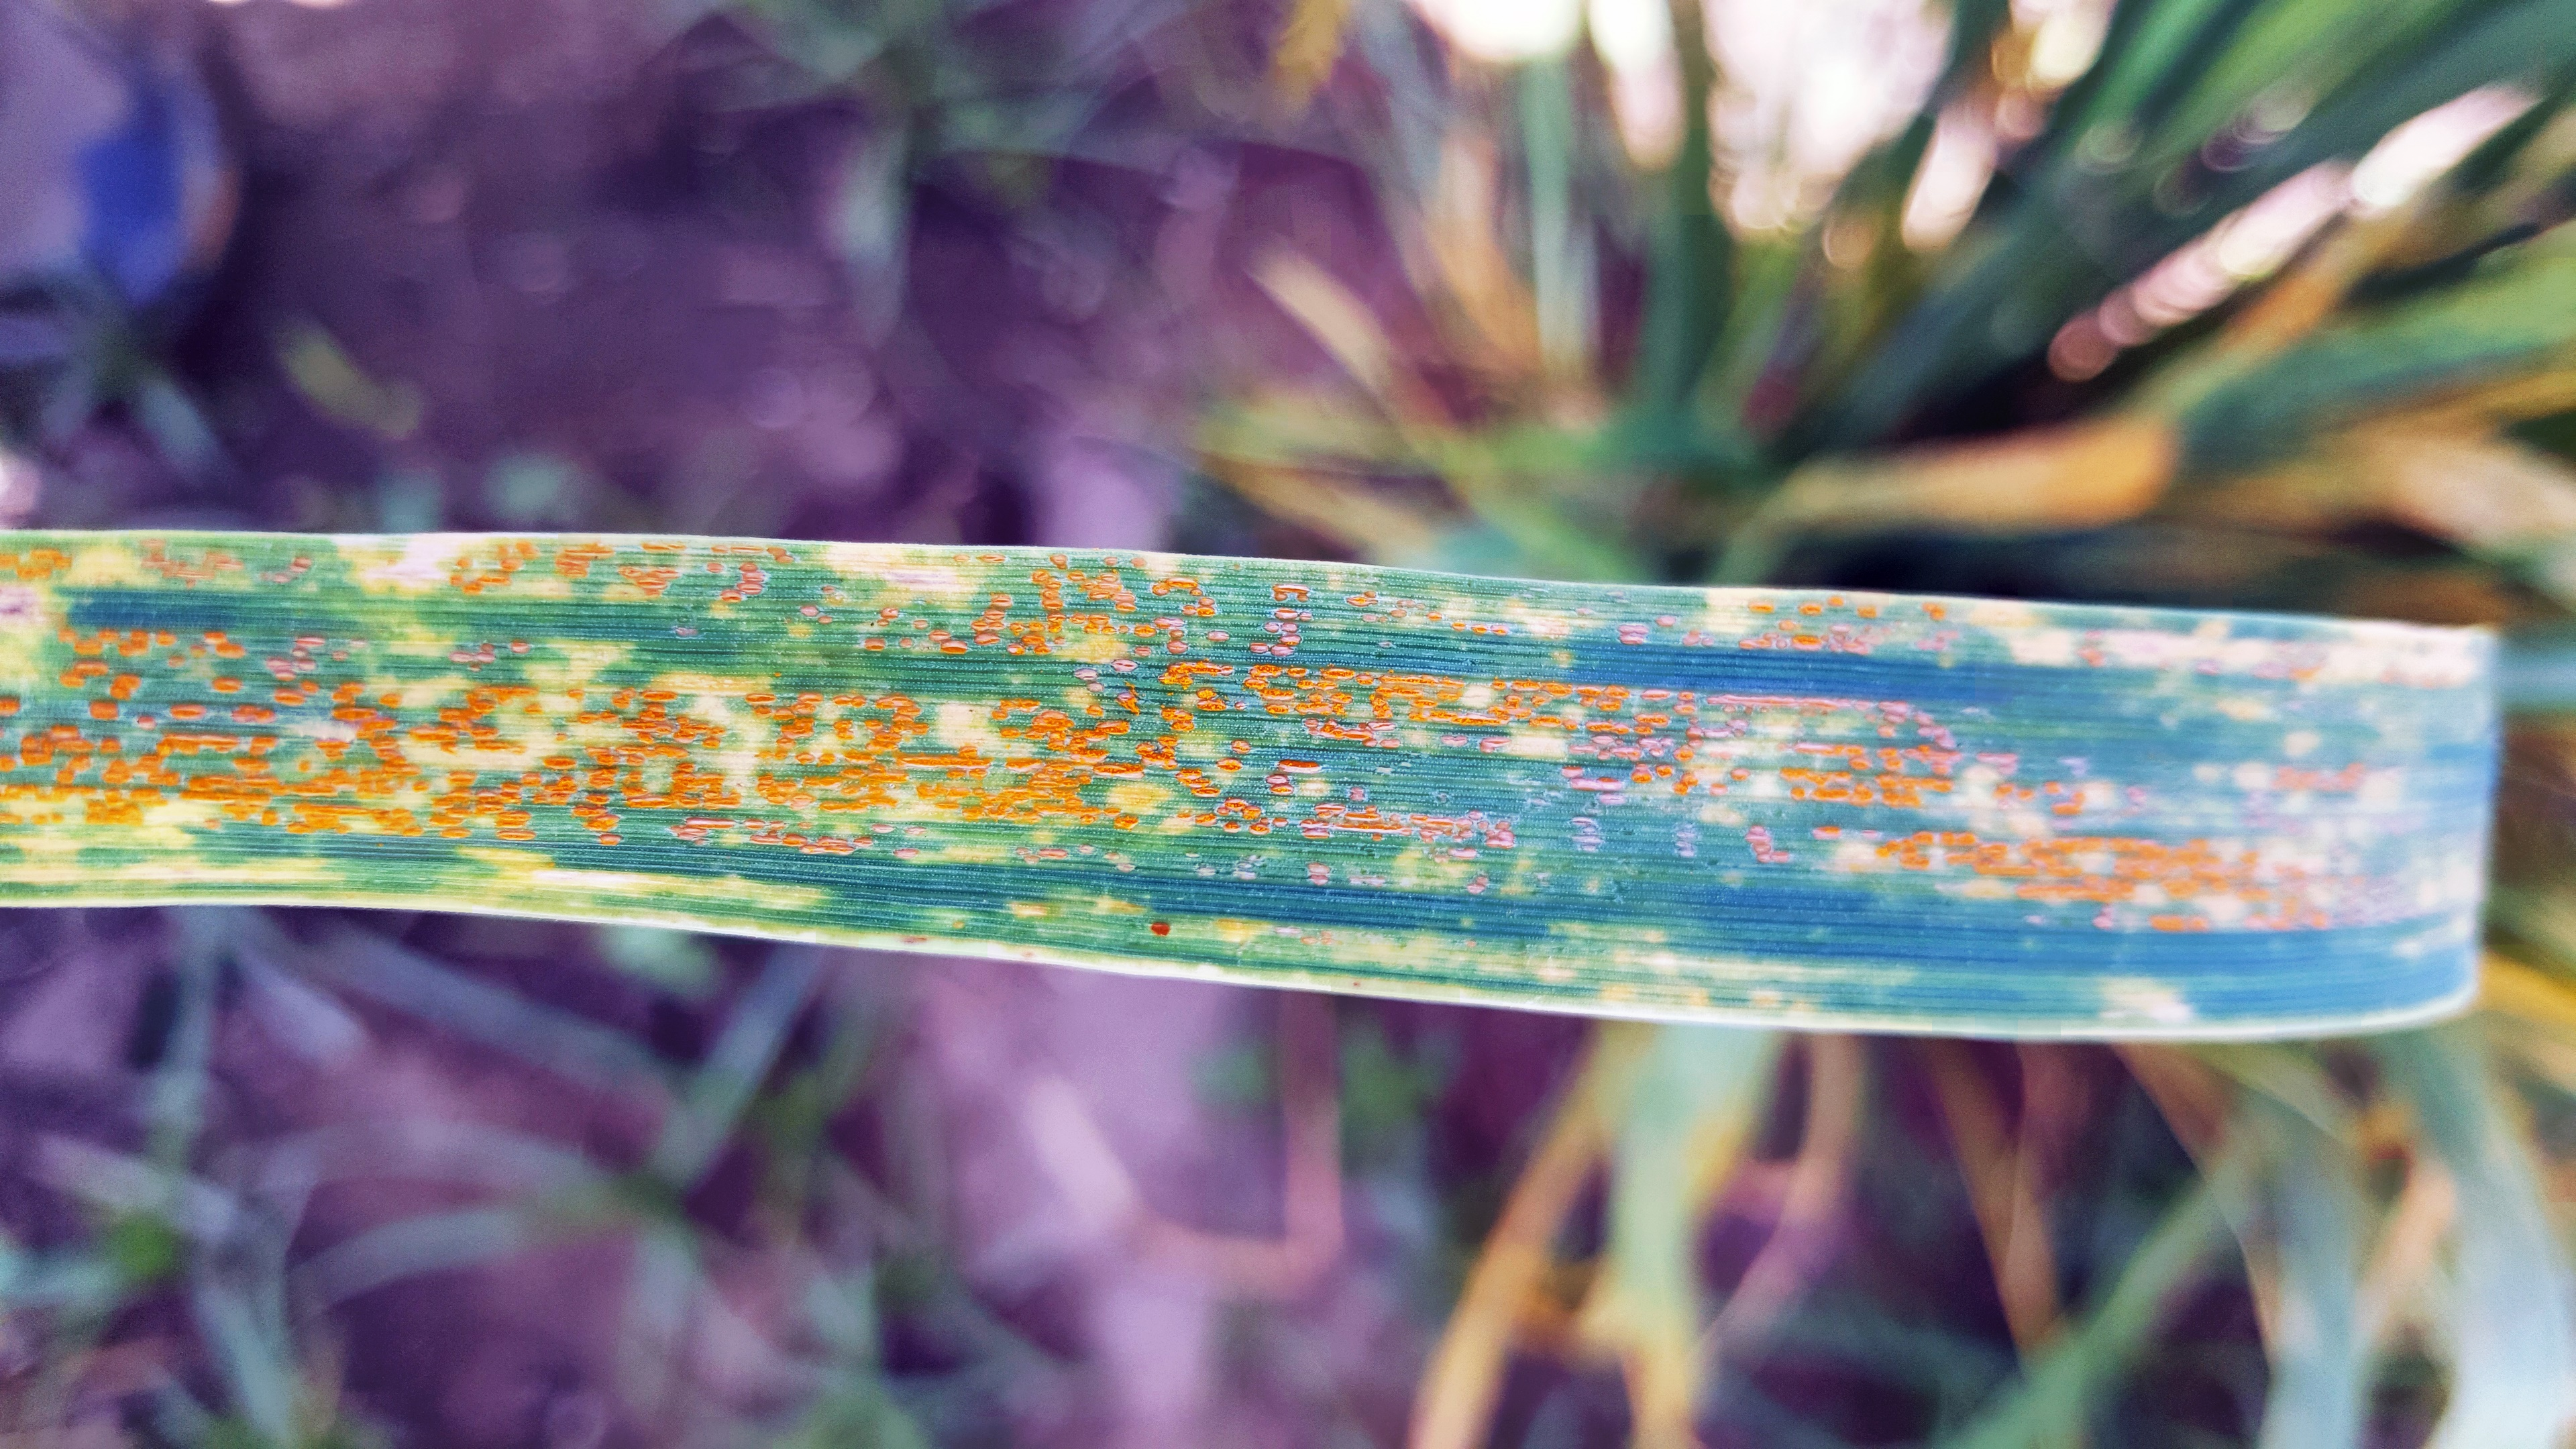Leaf Rust: (34, 527, 2302, 1033)
